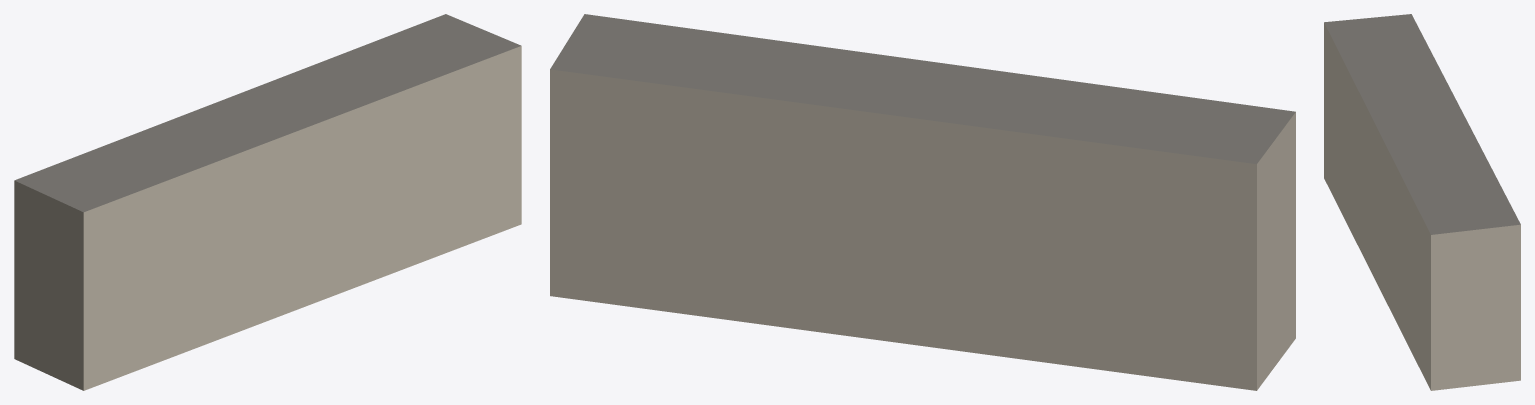
3 renders of one model, left to right at view 1: azimuth 30°, elevation 25°; view 2: azimuth 150°, elevation 25°; view 3: azimuth 270°, elevation 25°, orthographic. The views are drawn at different scales.
Visible parts, largest first — view 1: HP-w1058562706; view 2: HP-w1058562706; view 3: HP-w1058562706.
Part boxes in pixels (x1,y1,x2,y2): HP-w1058562706: (14, 14, 521, 390); HP-w1058562706: (550, 14, 1295, 390); HP-w1058562706: (1324, 14, 1520, 390).
Size of the model in its own units: 54.69 by 18 by 20.6.
